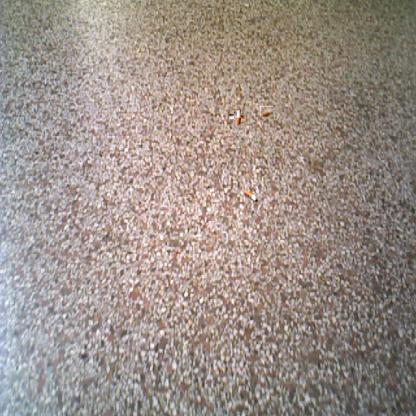dirty: (242, 188, 258, 202), (230, 111, 244, 125), (260, 106, 273, 117)
